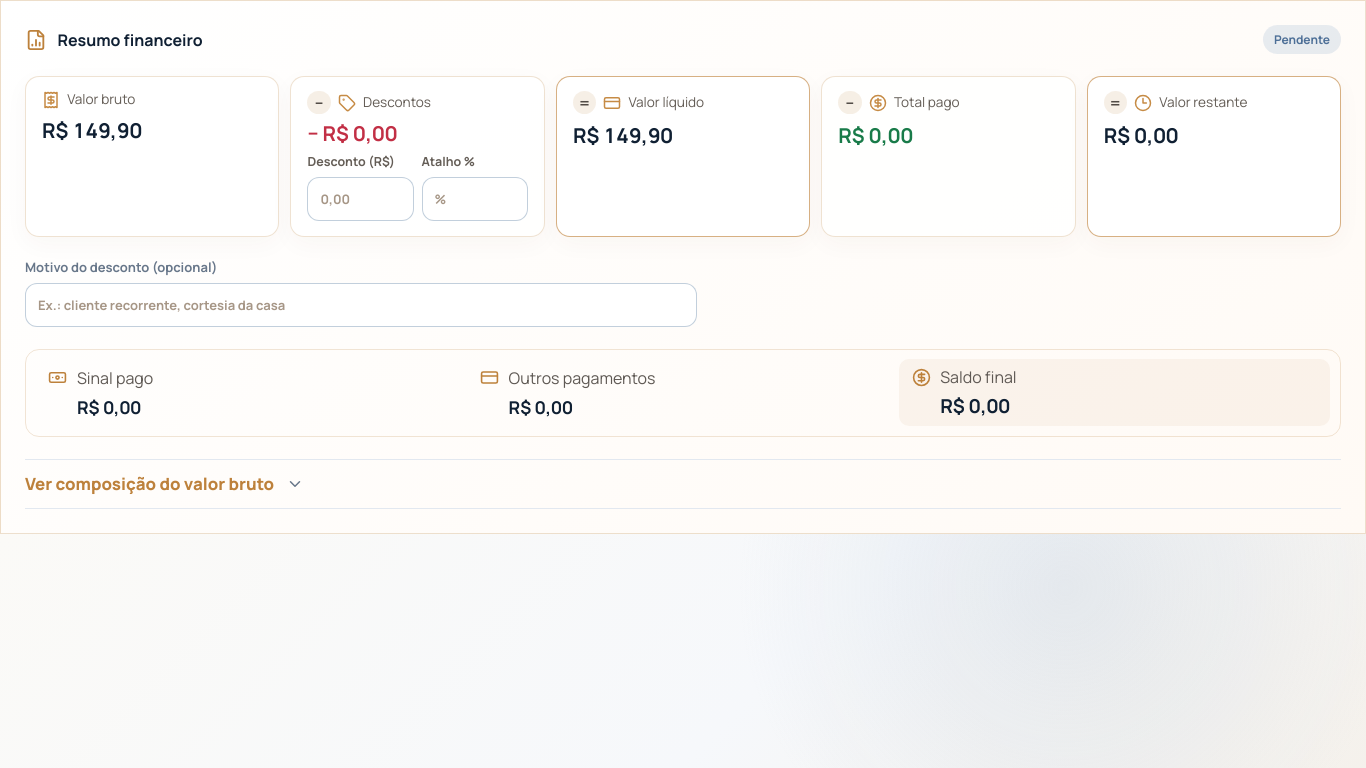
FinancialSummary — desconto editável › aceita o desconto em R$ e recalcula a partir do valor informado
This screenshot has width=1366, height=768.
In the number field labelled "Desconto (R$)": (360, 199) [307, 177, 414, 221], type "10"
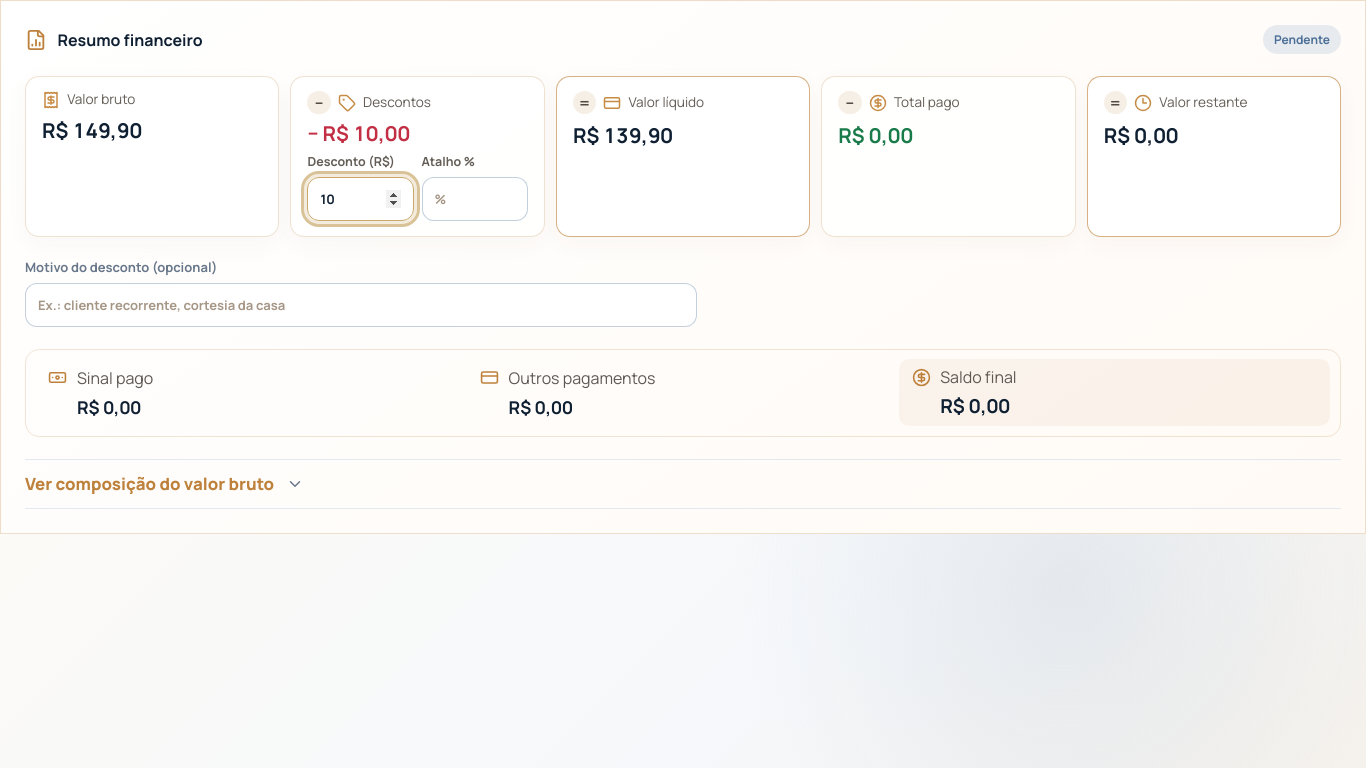
Expected: the text "− R$ 10,00" is shown, [307, 119, 410, 147]
Expected: the text "R$ 139,90" is shown, [573, 121, 673, 149]
